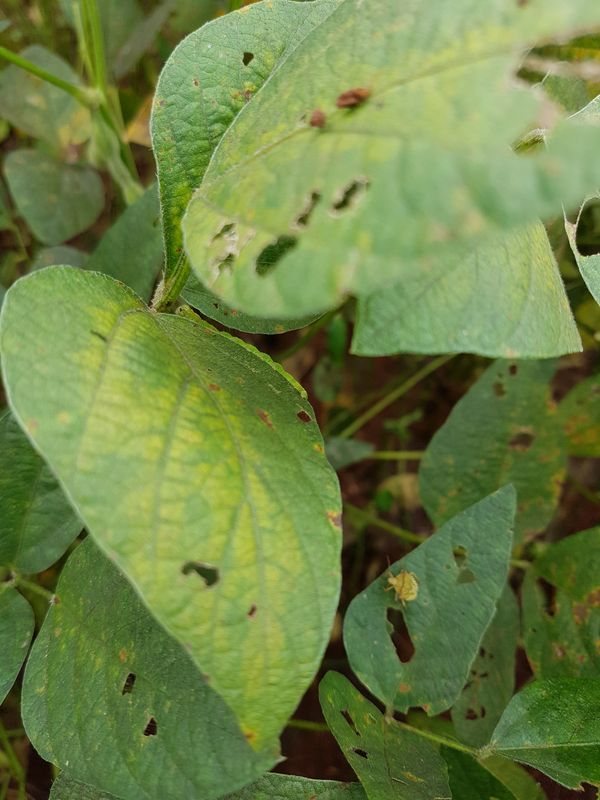Euschistus_heros_ninfa: (376, 561, 430, 615)
